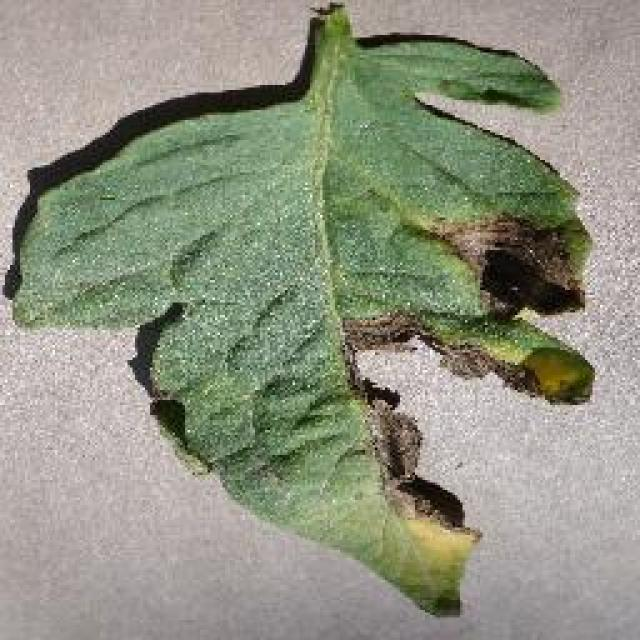Tomato___Early_blight: (8, 0, 603, 620)
